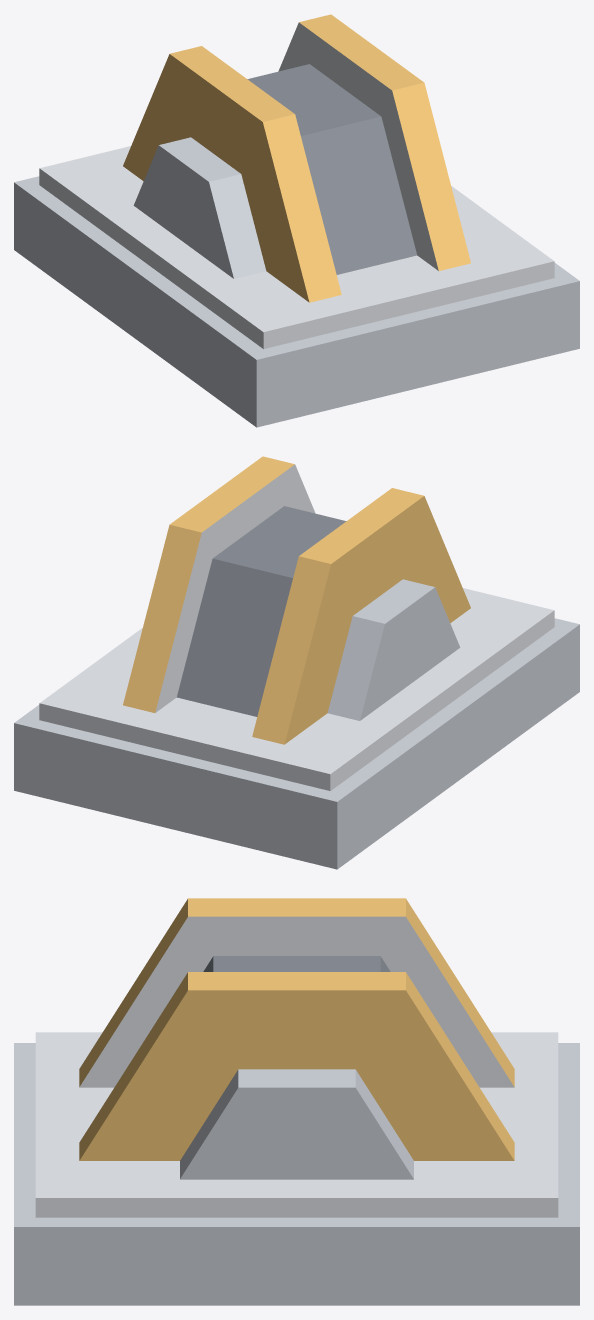
The model's file is generator.glb.
The picture shows the model from 3 angles, top to bottom: view 1: azimuth 30°, elevation 25°; view 2: azimuth 150°, elevation 25°; view 3: azimuth 270°, elevation 25°; orthographic projection. The views are drawn at different scales.
Visible parts, largest first — view 1: machine_generatorLarge; view 2: machine_generatorLarge; view 3: machine_generatorLarge.
Part boxes in pixels (left/top/right/bottom): machine_generatorLarge: left=14, top=14, right=579, bottom=427; machine_generatorLarge: left=14, top=456, right=579, bottom=869; machine_generatorLarge: left=14, top=898, right=579, bottom=1305.
Bounding box in the file's own units: 1 × 0.683 × 1.3.
1 material, 1 textured.
